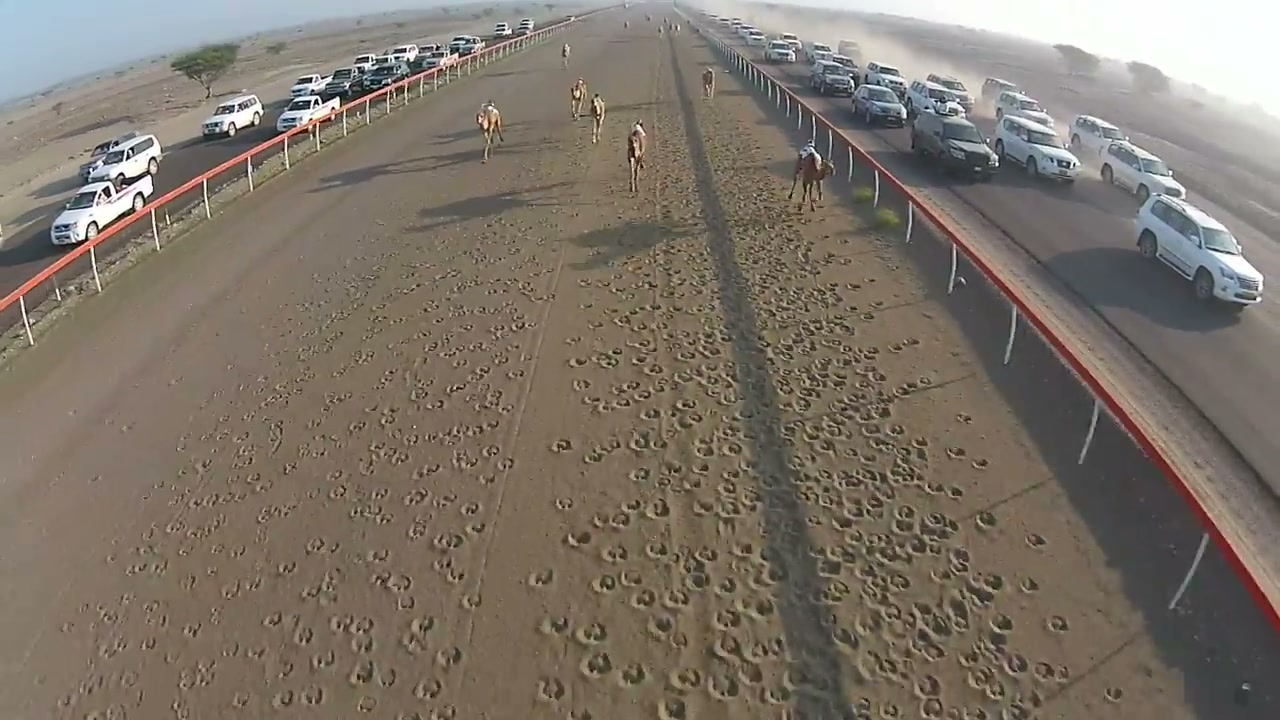animal_footprint: (49, 38, 1188, 719)
